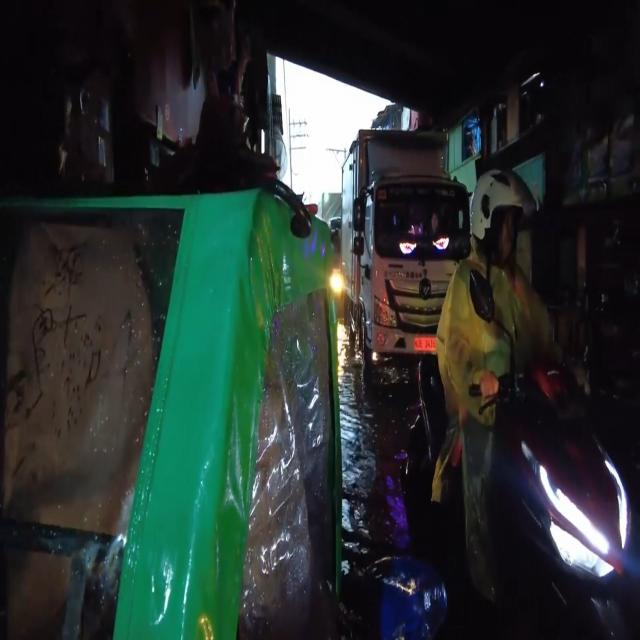half: (470, 168, 538, 245)
